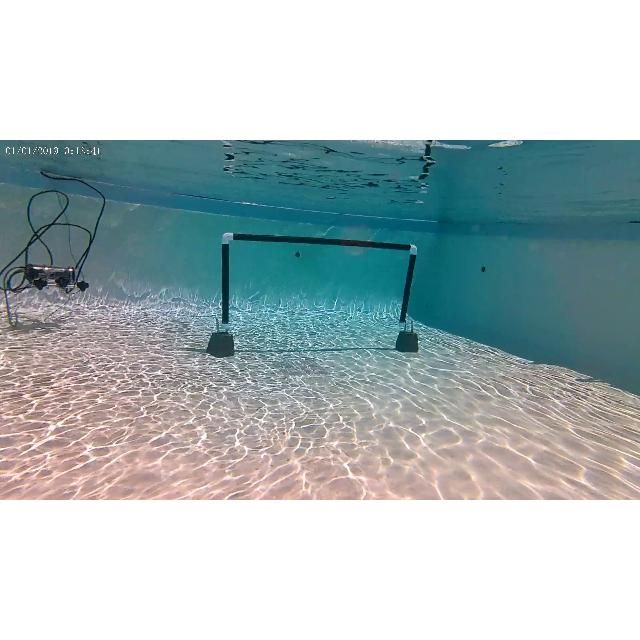prequal gate: (218, 230, 420, 330)
prequal gate leg l: (206, 228, 237, 358)
prequal gate leg r: (396, 244, 422, 352)
